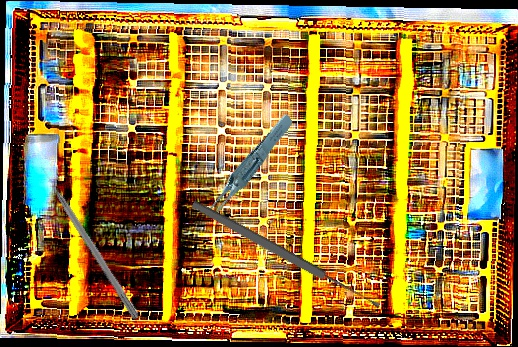Pusher: (38, 163, 142, 321)
Surgical Spoon: (190, 198, 382, 312)
Tissue Forceps: (182, 113, 310, 220)
